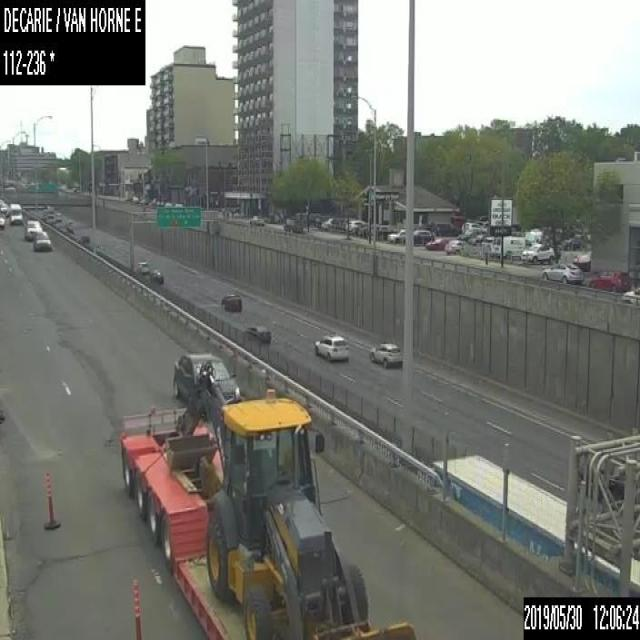construction: (43, 466, 59, 530), (131, 577, 141, 639)
vehicle: (119, 388, 416, 639), (432, 453, 639, 596), (575, 447, 639, 514), (172, 352, 238, 402), (313, 334, 349, 362), (481, 235, 524, 258), (588, 270, 631, 291), (541, 262, 582, 284), (369, 338, 401, 366), (522, 241, 554, 263), (398, 229, 434, 244), (243, 322, 269, 342), (220, 292, 241, 311), (23, 219, 42, 240), (424, 236, 453, 249), (282, 214, 302, 232), (33, 231, 51, 250), (443, 240, 466, 253), (9, 202, 22, 224), (148, 267, 164, 283), (387, 228, 404, 242), (461, 222, 480, 233), (344, 220, 362, 230), (622, 285, 639, 295), (320, 216, 332, 229), (249, 215, 264, 225), (136, 261, 148, 272), (0, 203, 8, 216), (78, 234, 89, 241), (0, 213, 5, 226), (65, 219, 72, 228), (55, 212, 61, 220)
